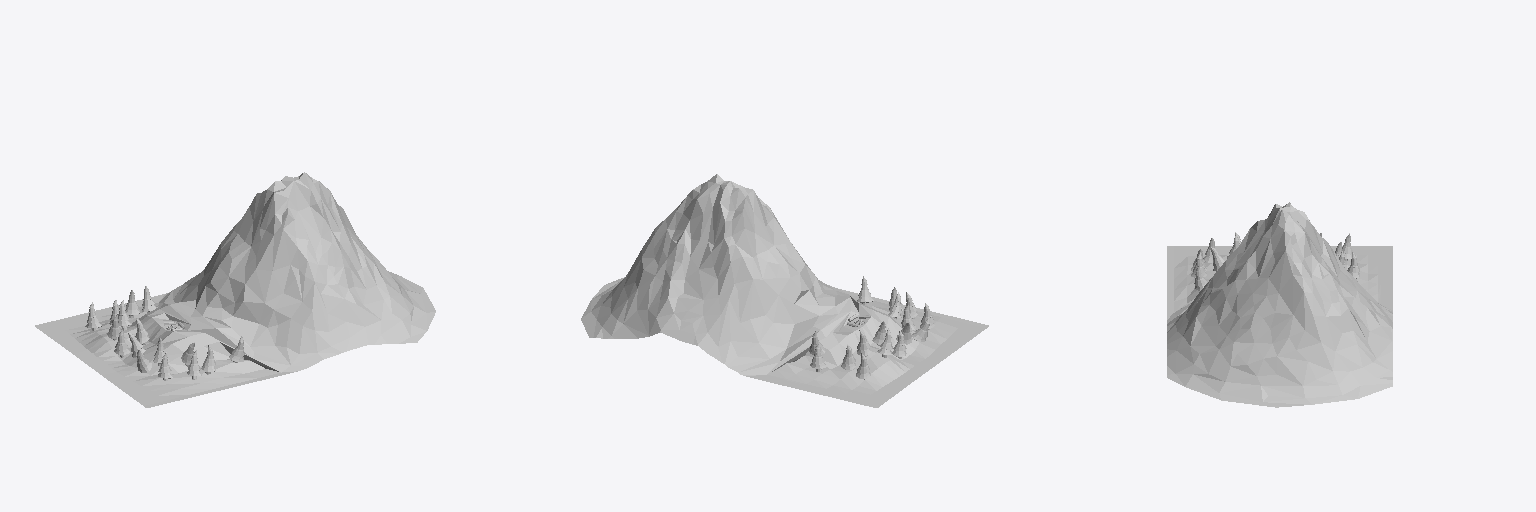
File: mountain2.obj
The picture shows the model from 3 angles: view 1: azimuth 30°, elevation 25°; view 2: azimuth 150°, elevation 25°; view 3: azimuth 270°, elevation 25°; orthographic projection.
Visible parts, largest first — view 1: Landscape; view 2: Landscape; view 3: Landscape.
Boxes of the visible parts, <box> form: Landscape: <box>35,172,435,407</box>; Landscape: <box>581,174,988,407</box>; Landscape: <box>1167,202,1392,407</box>.
Size of the model in its own units: 13.63 by 5.61 by 8.06.